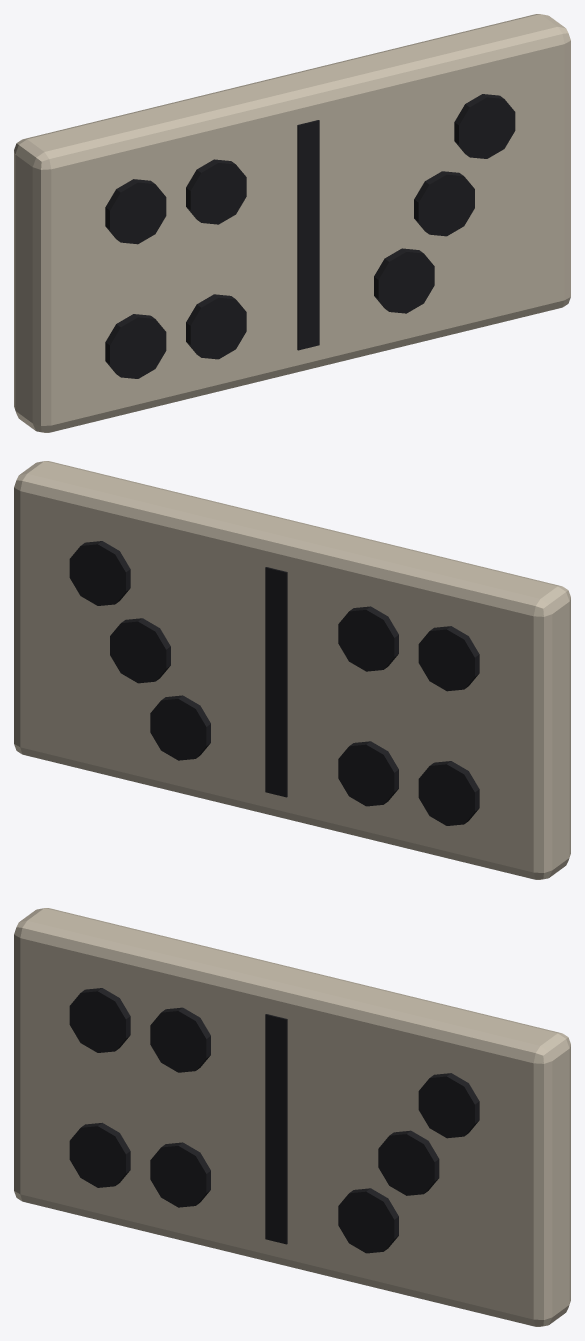
Rendered from toy_domino.fbx.
3 views of the same model, one above another, from view 1: azimuth 30°, elevation 25°; view 2: azimuth 150°, elevation 25°; view 3: azimuth 330°, elevation 25° (orthographic).
Visible parts, largest first — view 1: cream_1, ink_1; view 2: cream_1, ink_1; view 3: cream_1, ink_1.
Part boxes in pixels (x1,y1,x2,y2): cream_1: (14,14,570,432); ink_1: (105,94,515,378); cream_1: (14,461,570,879); ink_1: (69,541,479,825); cream_1: (14,908,570,1326); ink_1: (69,988,479,1253).
Bounding box in the file's own units: 0.24 × 0.12 × 0.0312.
